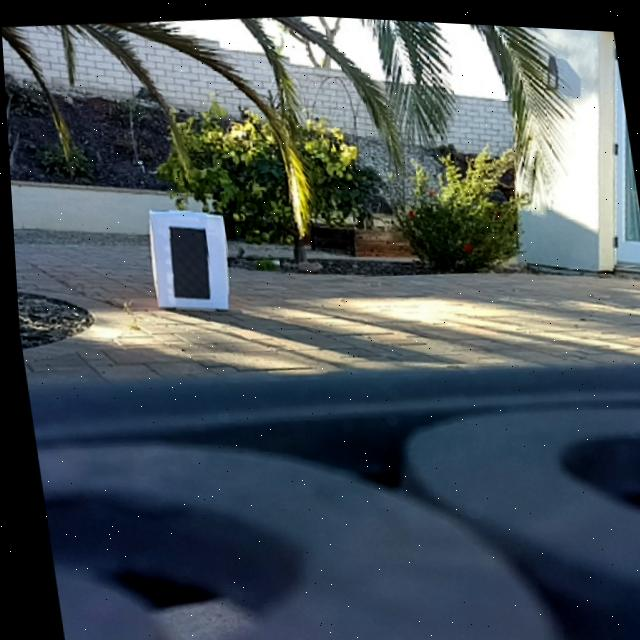led: (162, 221, 211, 300)
